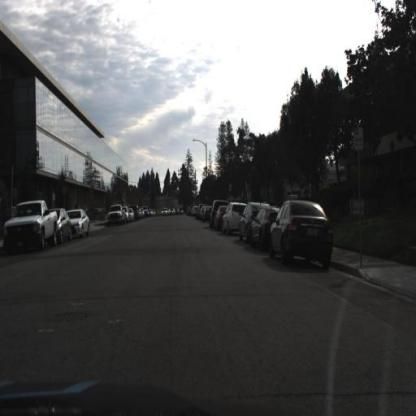car: (269, 200, 335, 268), (271, 198, 334, 267), (5, 199, 59, 258), (245, 202, 280, 257), (56, 207, 75, 247), (68, 208, 92, 238), (54, 209, 73, 245), (71, 209, 92, 241), (107, 204, 128, 227), (108, 204, 123, 228)
